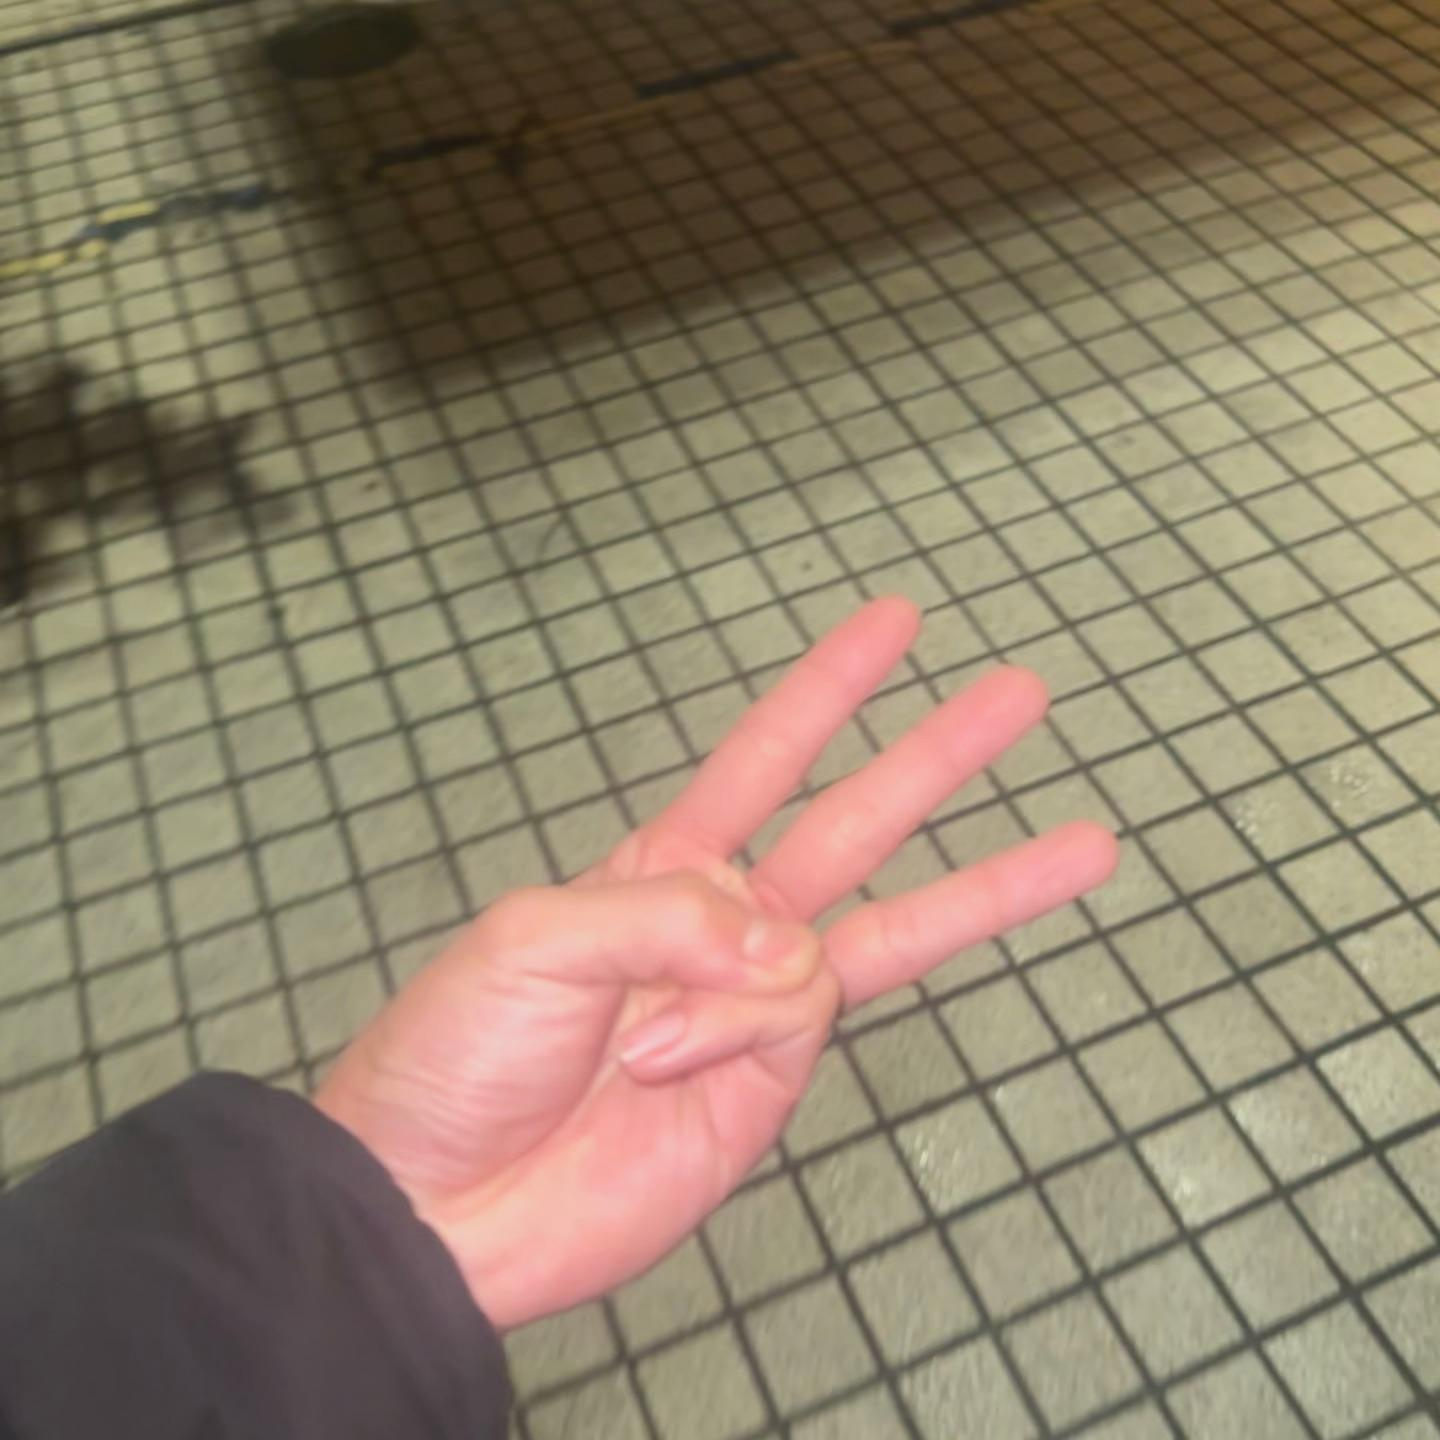without_gloves: (366, 470, 1181, 1320)
